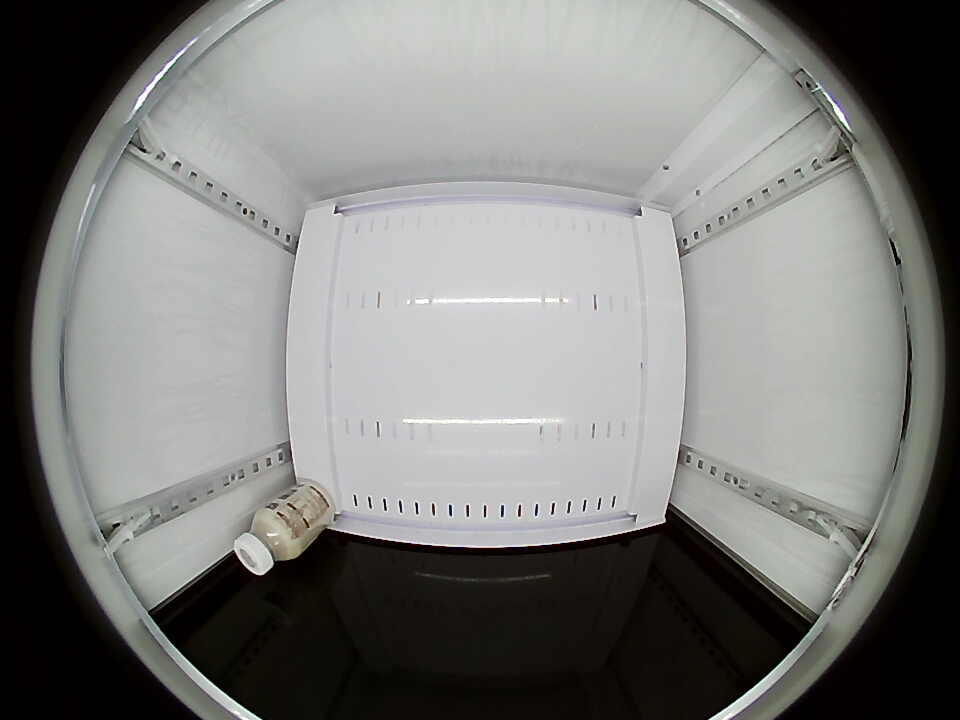weiweidounai: (232, 505, 303, 576)
